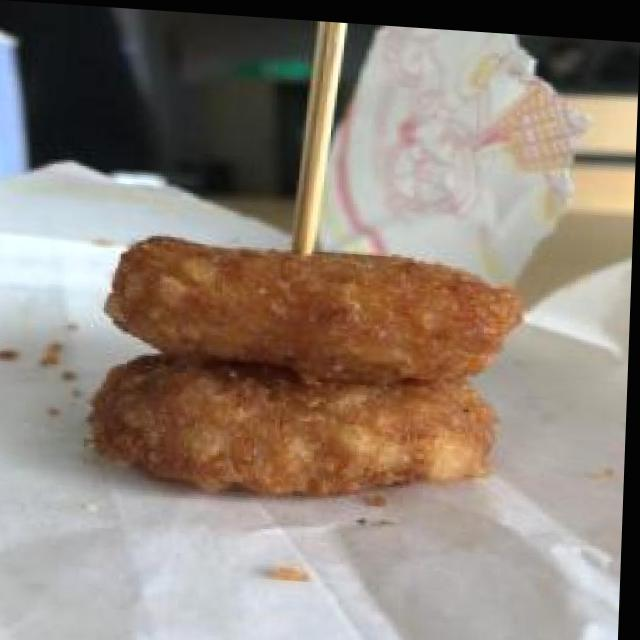triangle_hash_brown: (86, 225, 519, 508)
